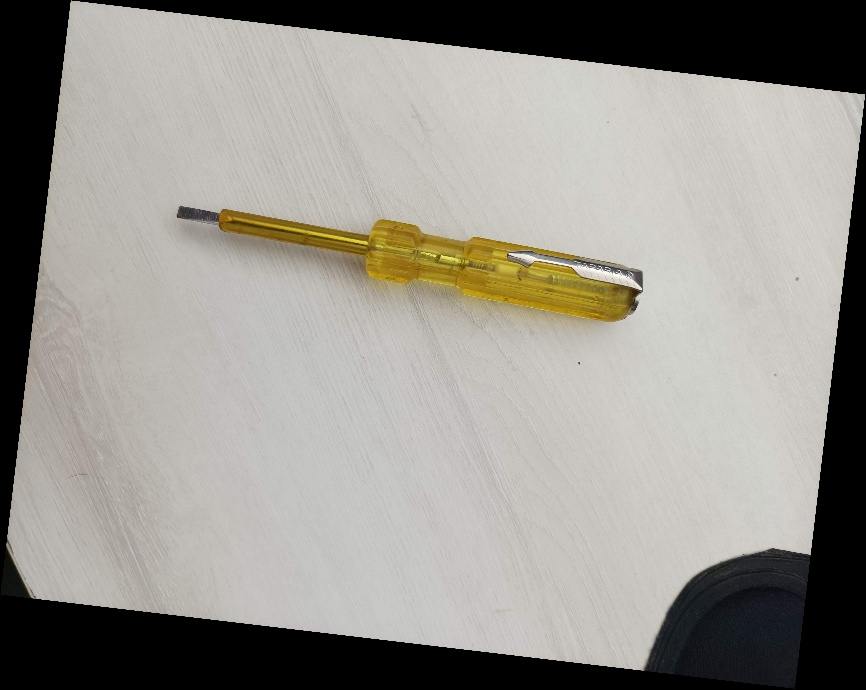screwdriver: (170, 195, 654, 323)
